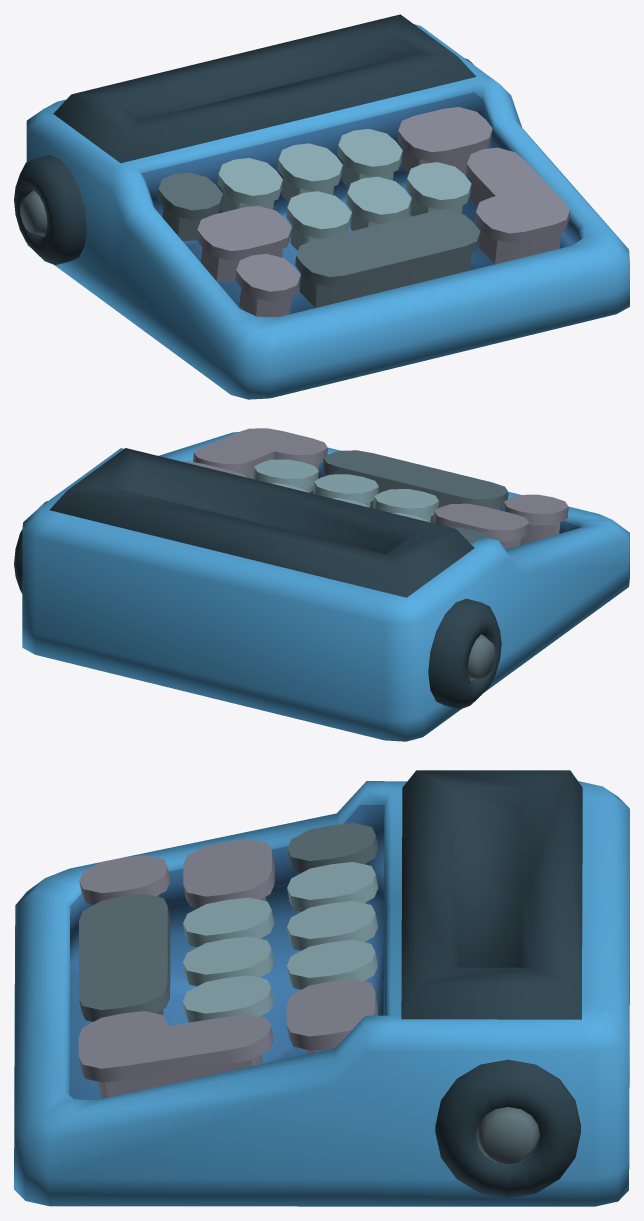
The model's file is TypingMachine_low.fbx.
The picture shows the model from 3 angles, top to bottom: view 1: azimuth 30°, elevation 25°; view 2: azimuth 150°, elevation 25°; view 3: azimuth 270°, elevation 25°; orthographic projection. The views are drawn at different scales.
Visible parts, largest first — view 1: Typing_machine_low; view 2: Typing_machine_low; view 3: Typing_machine_low.
Boxes of the visible parts, x1,y1,x2,y2 form: Typing_machine_low: (14, 14, 629, 399); Typing_machine_low: (14, 428, 629, 741); Typing_machine_low: (14, 770, 629, 1206).
Size of the model in its own units: 404 by 127 by 355.
